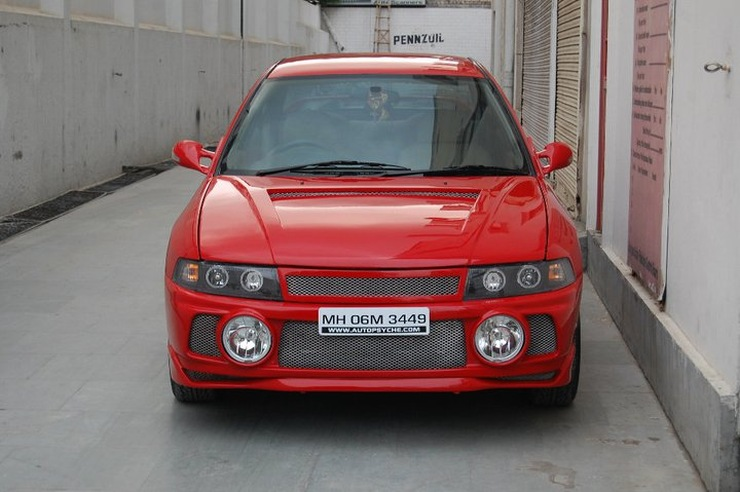number_plate: (315, 302, 433, 340)
